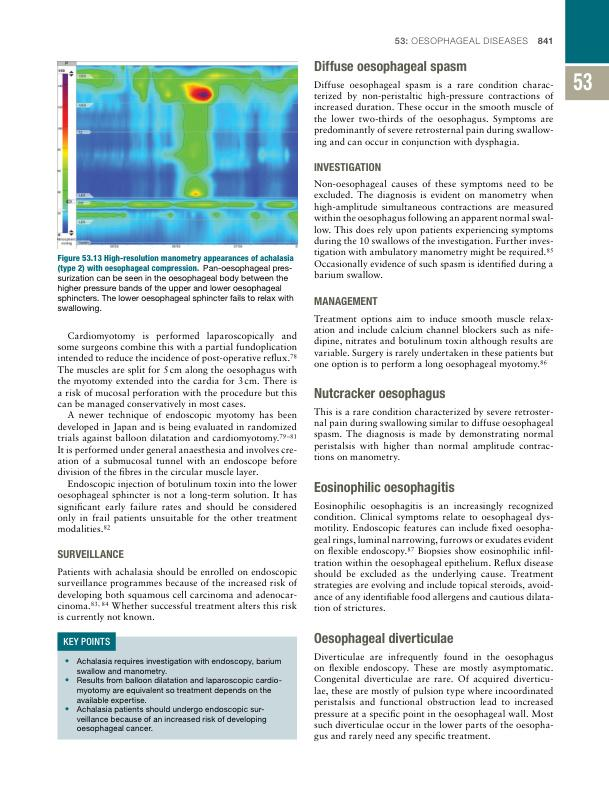caption: (56, 254, 295, 315), (63, 636, 112, 646)
header: (394, 36, 529, 46)
image: (56, 60, 299, 250)
list: (63, 656, 283, 735)
sub-section-heading: (313, 59, 467, 75), (313, 631, 454, 647), (313, 386, 447, 402), (313, 481, 455, 496), (57, 548, 126, 559), (313, 162, 383, 172), (313, 296, 378, 306)
text: (55, 330, 298, 534), (313, 500, 555, 613), (313, 179, 555, 280), (313, 652, 555, 743), (313, 79, 555, 149), (56, 566, 299, 623), (313, 314, 554, 371), (313, 407, 555, 463)
